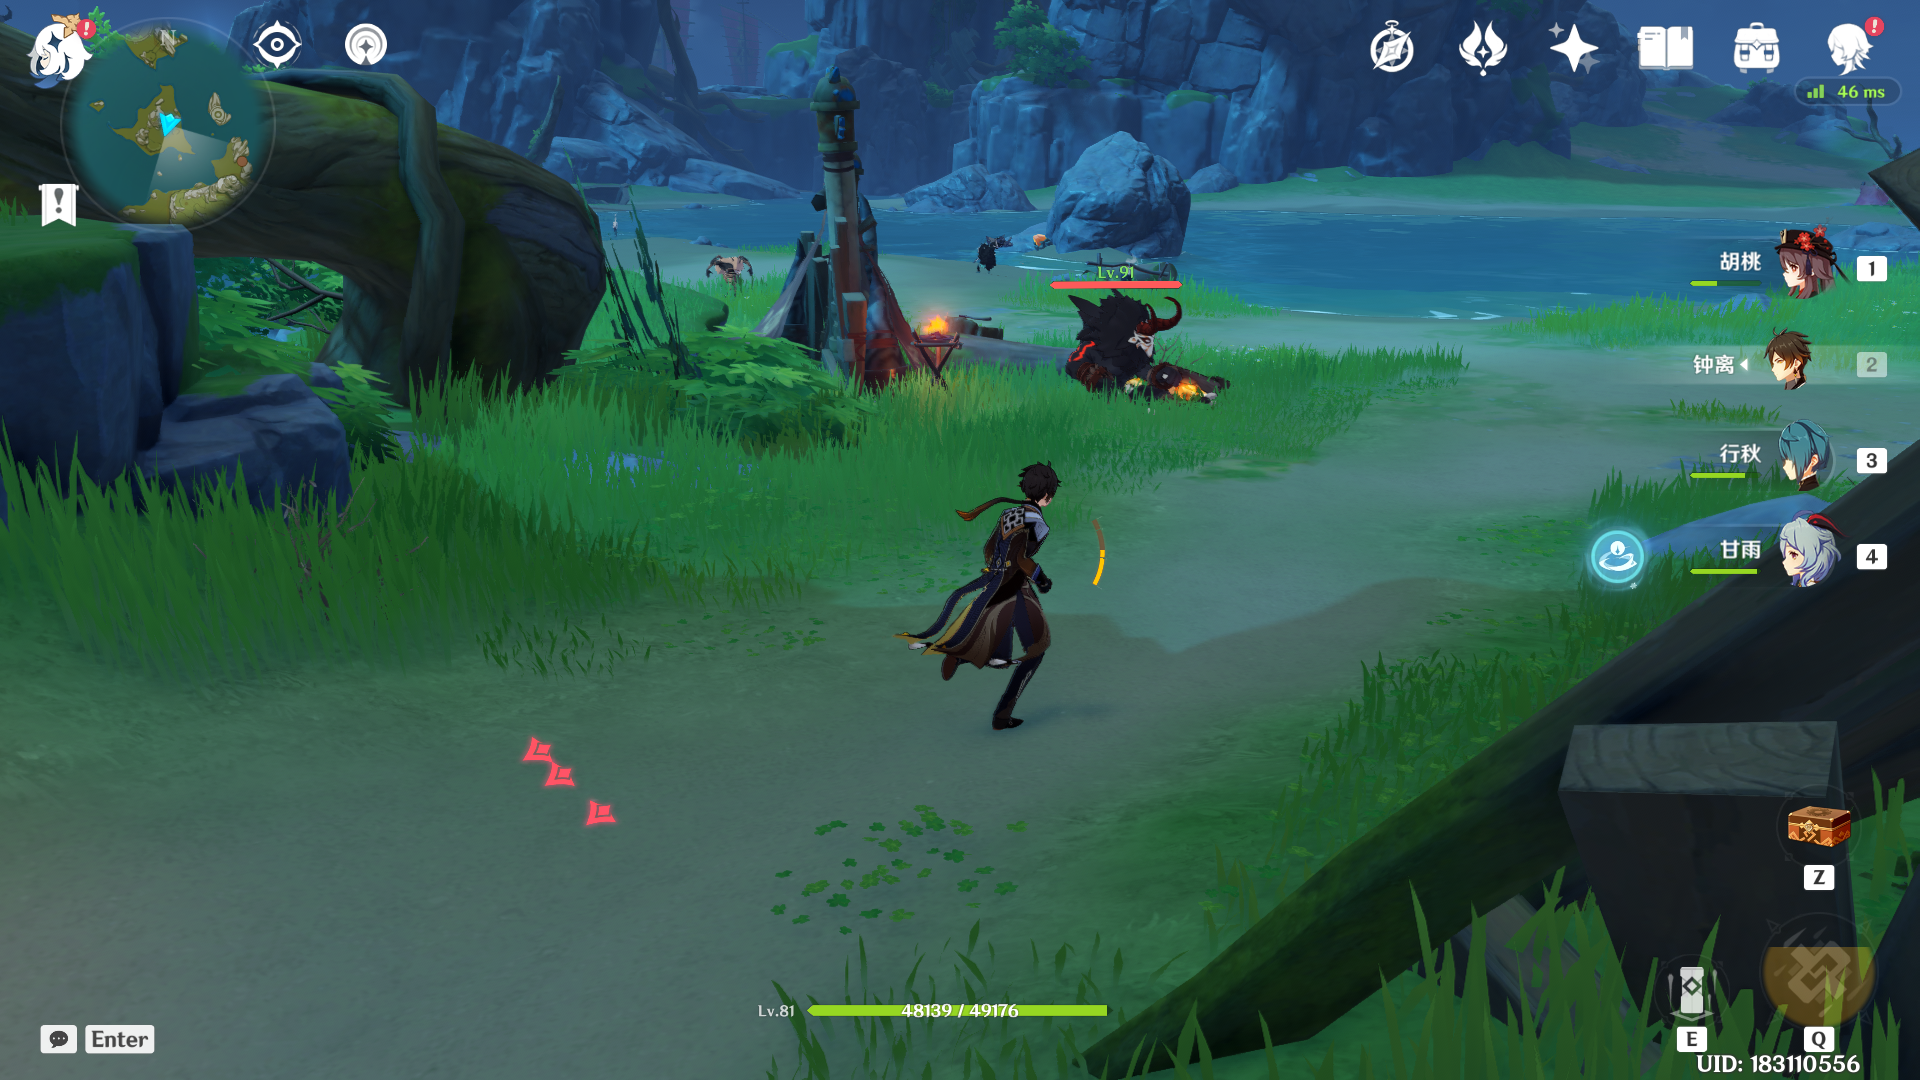bighili: (1043, 274, 1234, 438)
character: (887, 431, 1147, 785)
